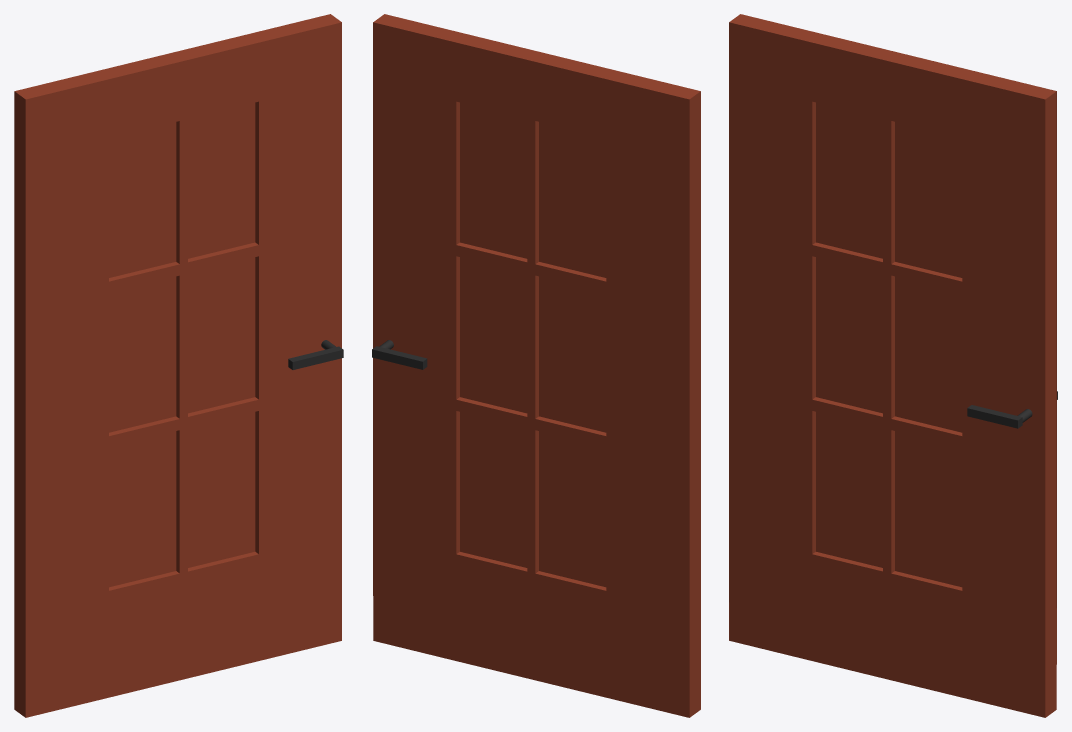
3 renders of one model, left to right at view 1: azimuth 30°, elevation 25°; view 2: azimuth 150°, elevation 25°; view 3: azimuth 330°, elevation 25°, orthographic.
Visible parts, largest first — view 1: Tür, Türklinke 1; view 2: Tür, Türklinke 2; view 3: Tür, Türklinke 1.
Part boxes in pixels (x1,y1,x2,y2): Tür: (14,14,341,717); Türklinke 1: (288,340,343,369); Tür: (373,14,700,717); Türklinke 2: (372,340,427,369); Tür: (729,14,1056,717); Türklinke 1: (967,405,1032,428).
Bounding box in the file's own units: 119 × 223 × 25.98.
